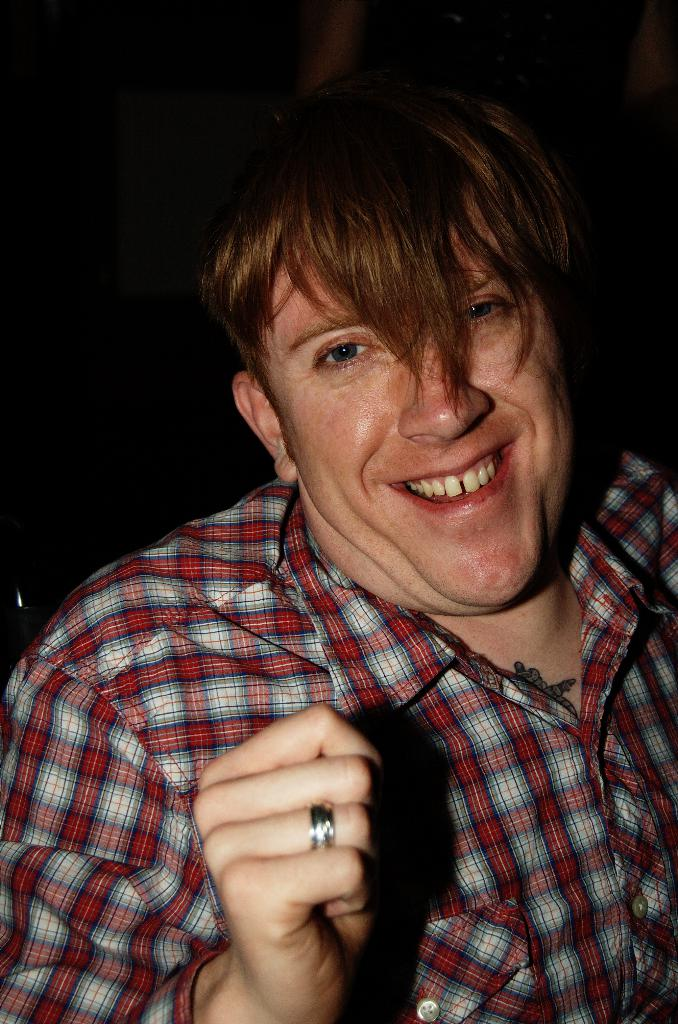Human_hand: (182, 716, 409, 979)
